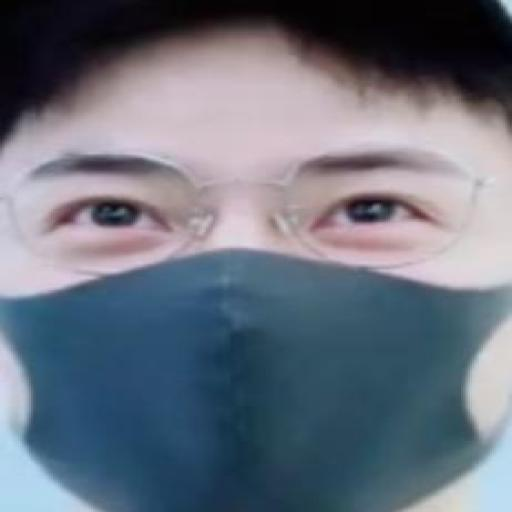mask: (0, 155, 512, 512)
